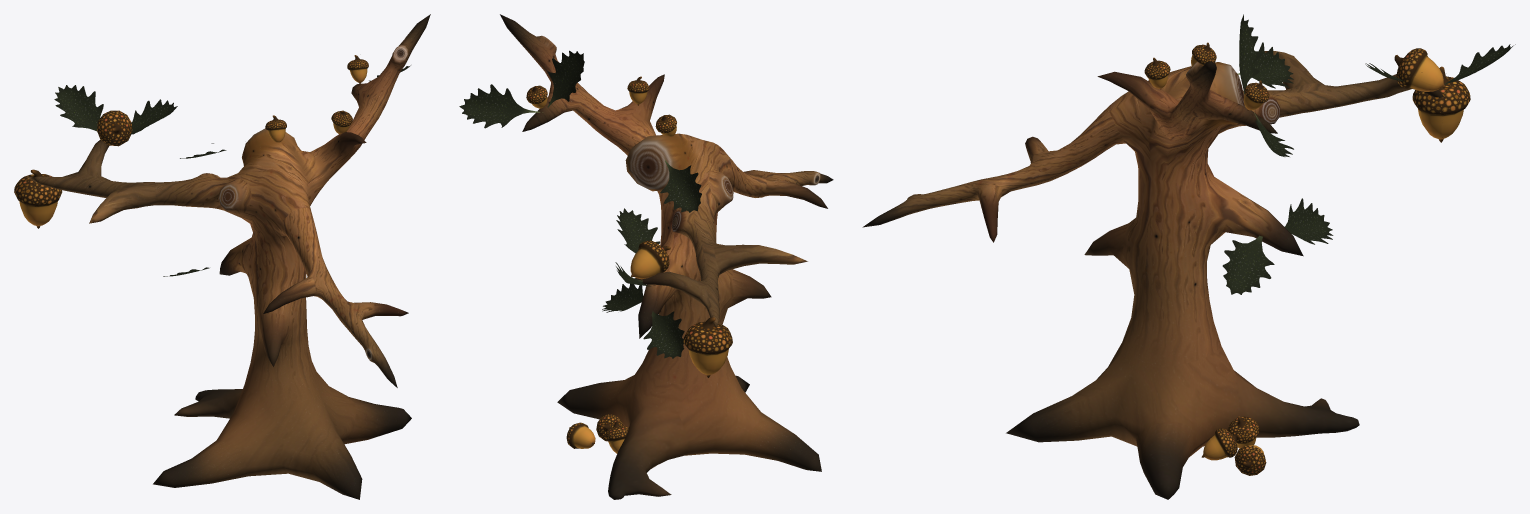
The model's file is Tree02.FBX.
3 renders of one model, left to right at view 1: azimuth 30°, elevation 25°; view 2: azimuth 150°, elevation 25°; view 3: azimuth 270°, elevation 25°, orthographic. The views are drawn at different scales.
Visible parts, largest first — view 1: Tree3; view 2: Tree3, Fruit01, Fruit03; view 3: Tree3, Fruit02, Fruit01, Fruit03.
Part boxes in pixels (x1,y1,x2,y2): Tree3: (14, 14, 430, 499); Tree3: (459, 14, 833, 499); Fruit01: (566, 422, 595, 448); Fruit03: (605, 420, 628, 453); Tree3: (862, 14, 1515, 499); Fruit02: (1201, 428, 1240, 460); Fruit01: (1234, 445, 1266, 475); Fruit03: (1227, 416, 1259, 448).
Size of the model in its own units: 5.38 by 6.04 by 7.63.
